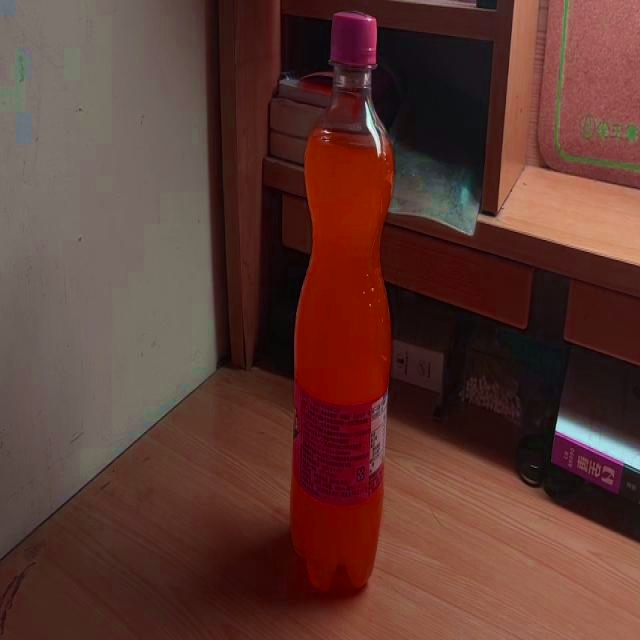Fanta: (293, 11, 394, 596)
